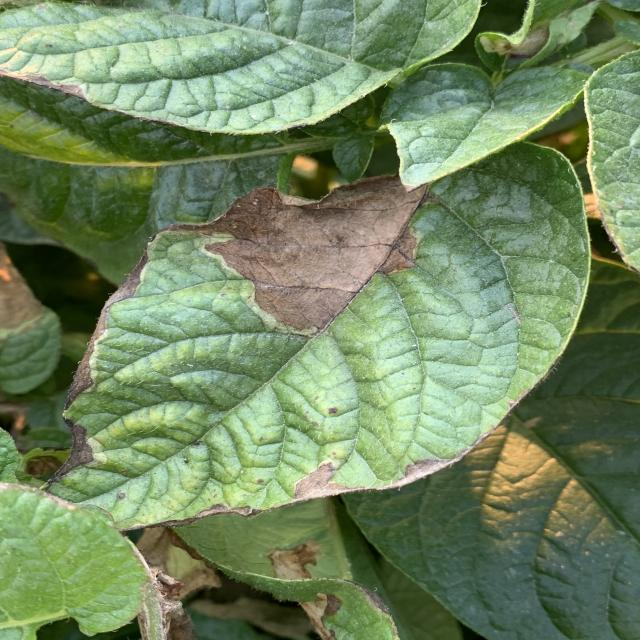lateblight: (172, 176, 425, 331), (280, 462, 365, 505), (48, 421, 93, 484), (70, 340, 93, 402), (398, 460, 450, 485), (198, 504, 260, 518), (95, 306, 108, 335), (62, 335, 78, 349), (108, 291, 122, 305)
